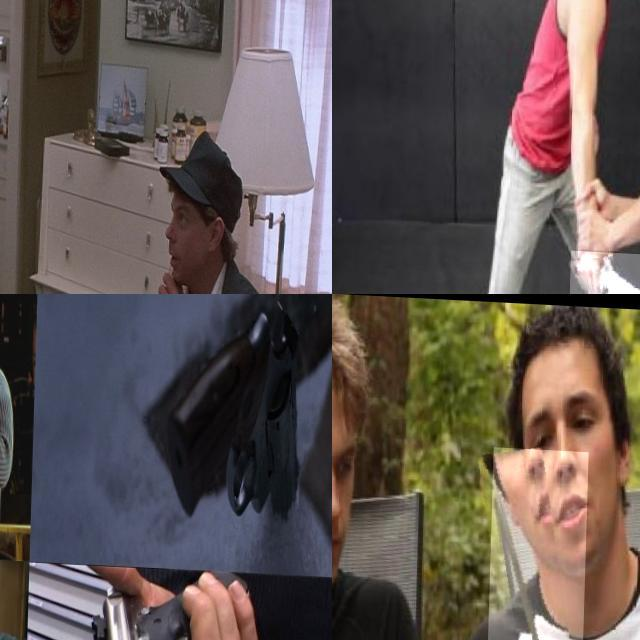-: (486, 443, 589, 640), (571, 247, 640, 294)
gun-knife-thesis - v11 Yolov5 augmented: (164, 294, 305, 535), (87, 559, 257, 640), (0, 385, 20, 440)
